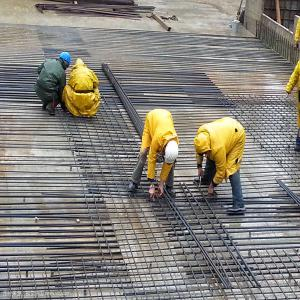blue: (59, 51, 72, 72)
white: (162, 139, 181, 166)
